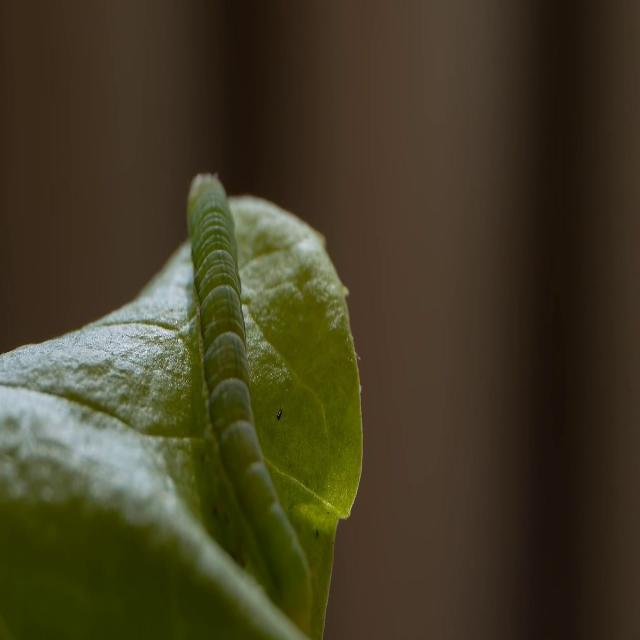caterpillar: (169, 152, 319, 622)
